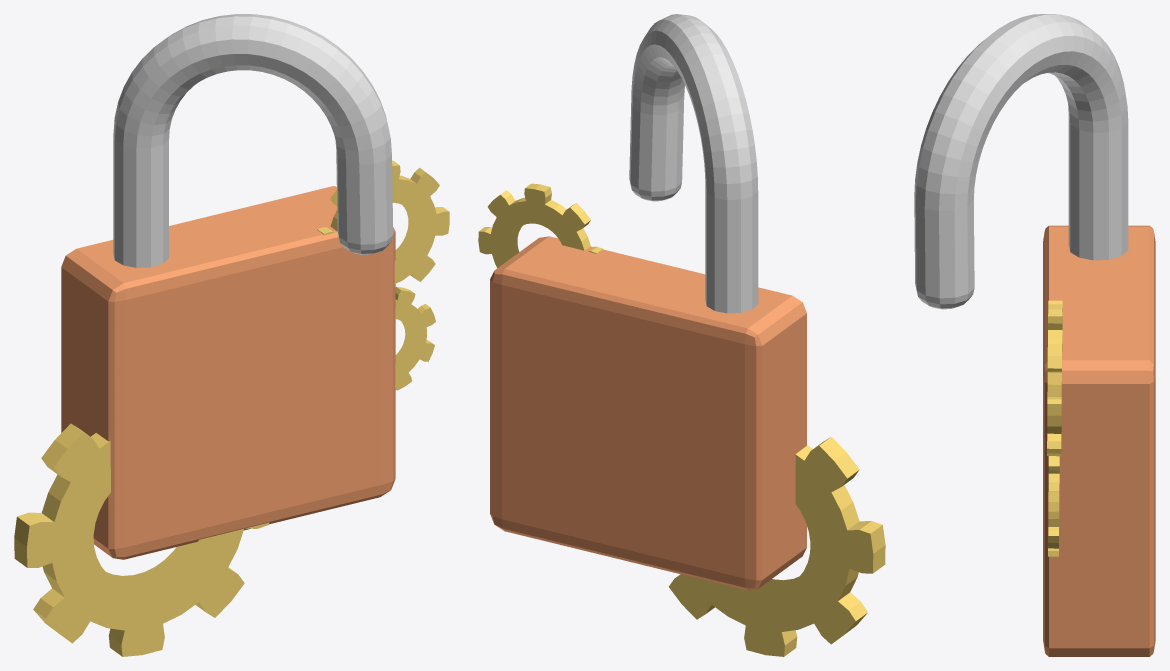
Rendered from lock-smart_.glb.
3 views of the same model, side by side, from view 1: azimuth 30°, elevation 25°; view 2: azimuth 150°, elevation 25°; view 3: azimuth 270°, elevation 25° (orthographic). The views are drawn at different scales.
Parts seen in each view (by area): view 1: Lock.002, Gear.003, Gear.002, Gear.001; view 2: Lock.002, Gear.003, Gear.002; view 3: Lock.002, Gear.002, Gear.001.
Part boxes in pixels (bbox=[...]): Lock.002: bbox=[61, 14, 395, 559]; Gear.003: bbox=[14, 423, 269, 656]; Gear.002: bbox=[317, 160, 449, 283]; Gear.001: bbox=[395, 286, 435, 390]; Lock.002: bbox=[490, 14, 806, 590]; Gear.003: bbox=[669, 437, 885, 656]; Gear.002: bbox=[478, 183, 602, 267]; Lock.002: bbox=[914, 14, 1155, 656]; Gear.002: bbox=[1047, 300, 1062, 456]; Gear.001: bbox=[1048, 456, 1059, 556].
Bounding box in the file's own units: 7.77 × 10.94 × 3.6.
